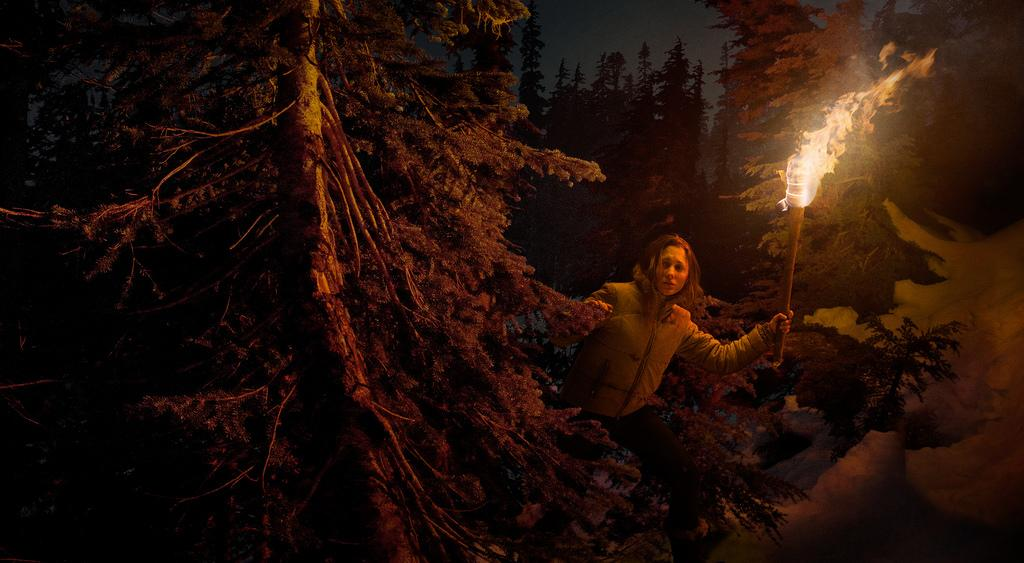fire: (797, 151, 814, 201)
